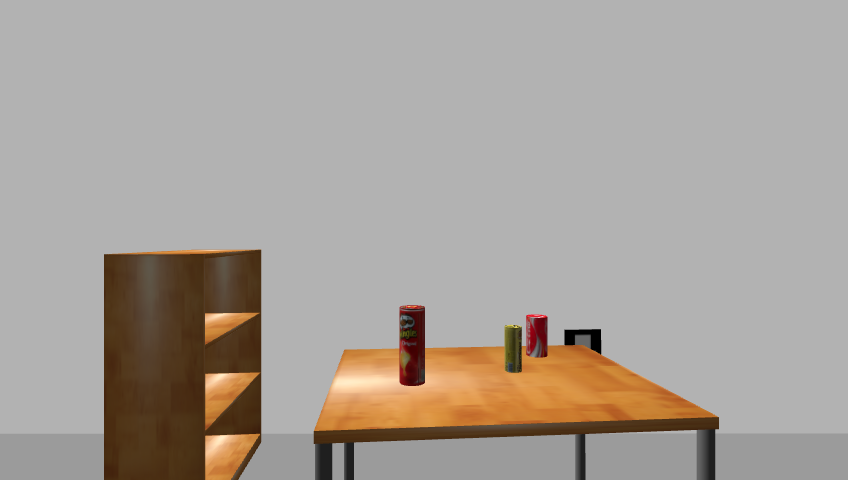aruco marker: (561, 328, 606, 359)
biscuits pack: (504, 325, 522, 374)
bookshelf: (98, 247, 269, 480)
coke can: (526, 313, 549, 359)
dinner table: (306, 344, 726, 480)
pringles can: (397, 304, 427, 388)
